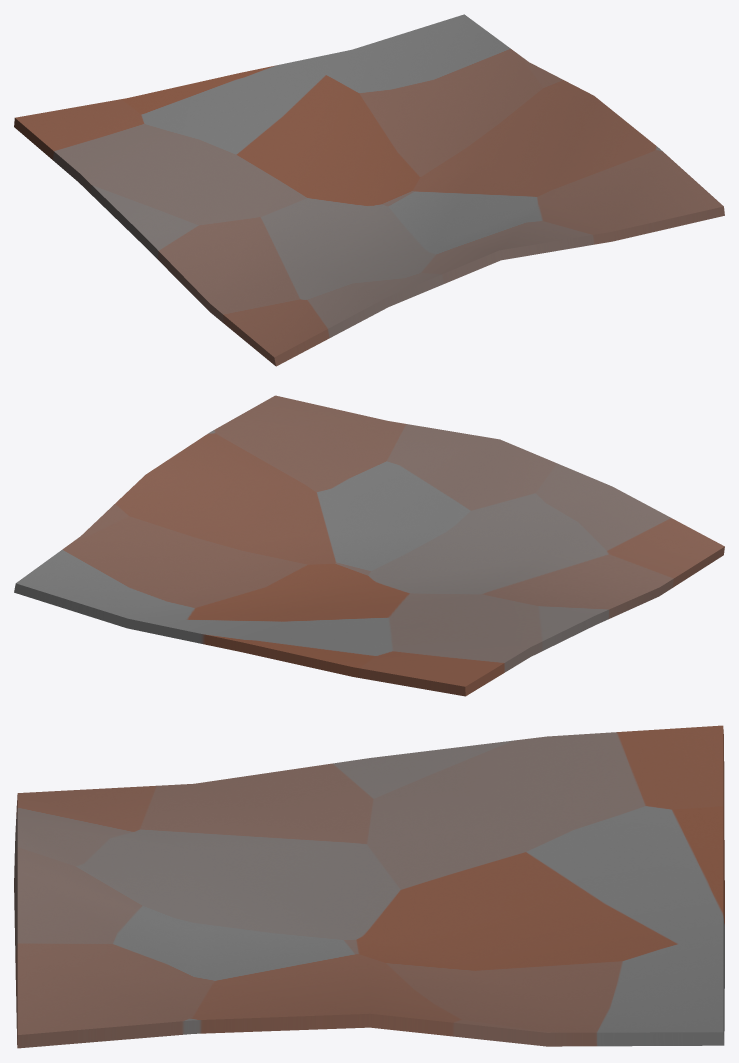
File: MetalOxidado2.fbx
3 renders of one model, top to bottom at view 1: azimuth 30°, elevation 25°; view 2: azimuth 150°, elevation 25°; view 3: azimuth 270°, elevation 25°, orthographic. The views are drawn at different scales.
Parts seen in each view (by area): view 1: Metal oxidado.001; view 2: Metal oxidado.001; view 3: Metal oxidado.001.
Boxes of the visible parts, x1=… form: Metal oxidado.001: x1=14, y1=14, x2=724, y2=366; Metal oxidado.001: x1=14, y1=395, x2=724, y2=696; Metal oxidado.001: x1=14, y1=725, x2=724, y2=1048.
Bounding box in the file's own units: 101 × 14.1 × 101.
Materials: 1 (1 with a texture image).
